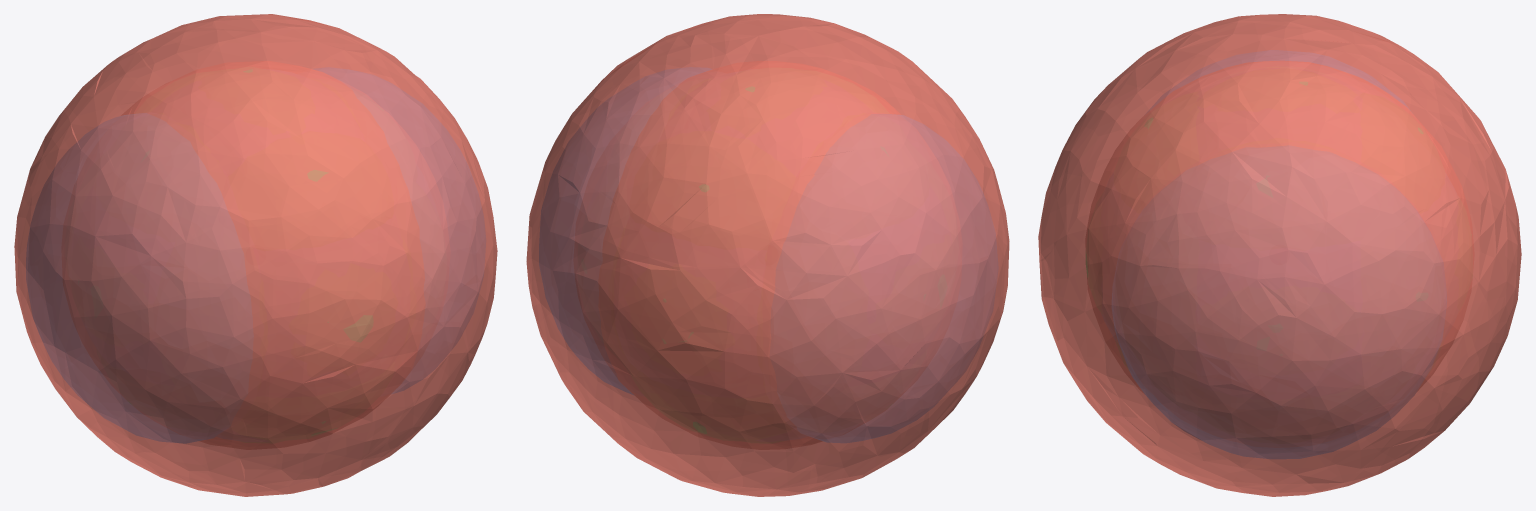
3 renders of one model, left to right at view 1: azimuth 30°, elevation 25°; view 2: azimuth 150°, elevation 25°; view 3: azimuth 270°, elevation 25°, orthographic.
Visible parts, largest first — view 1: In_n5_s_ml0_node, In_n4_s_ml0_node, In_n5_p_ml1_node; view 2: In_n5_s_ml0_node, In_n4_s_ml0_node, In_n5_p_ml1_node; view 3: In_n5_s_ml0_node, In_n4_s_ml0_node, In_n5_p_ml1_node.
Boxes of the visible parts, box(x1,y1,x2,y2) form: In_n5_s_ml0_node: box(14, 14, 497, 496); In_n4_s_ml0_node: box(121, 61, 425, 449); In_n5_p_ml1_node: box(26, 67, 485, 442); In_n5_s_ml0_node: box(526, 14, 1009, 496); In_n4_s_ml0_node: box(598, 61, 900, 449); In_n5_p_ml1_node: box(539, 67, 997, 442); In_n5_s_ml0_node: box(1038, 14, 1521, 496); In_n4_s_ml0_node: box(1085, 61, 1474, 392); In_n5_p_ml1_node: box(1112, 50, 1446, 458).
Bounding box in the file's own units: 2.56 × 2.56 × 2.56.
